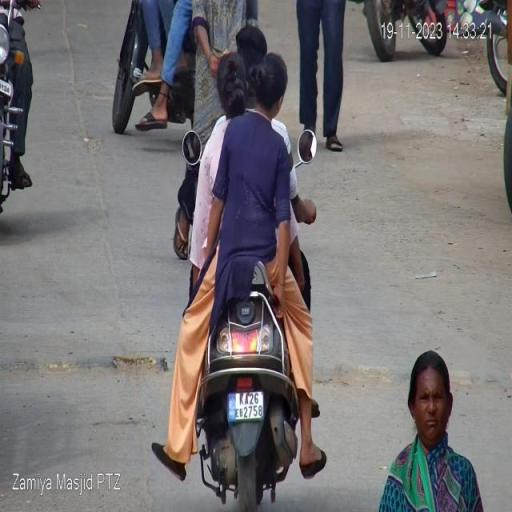tripple riding: (182, 18, 318, 284)
